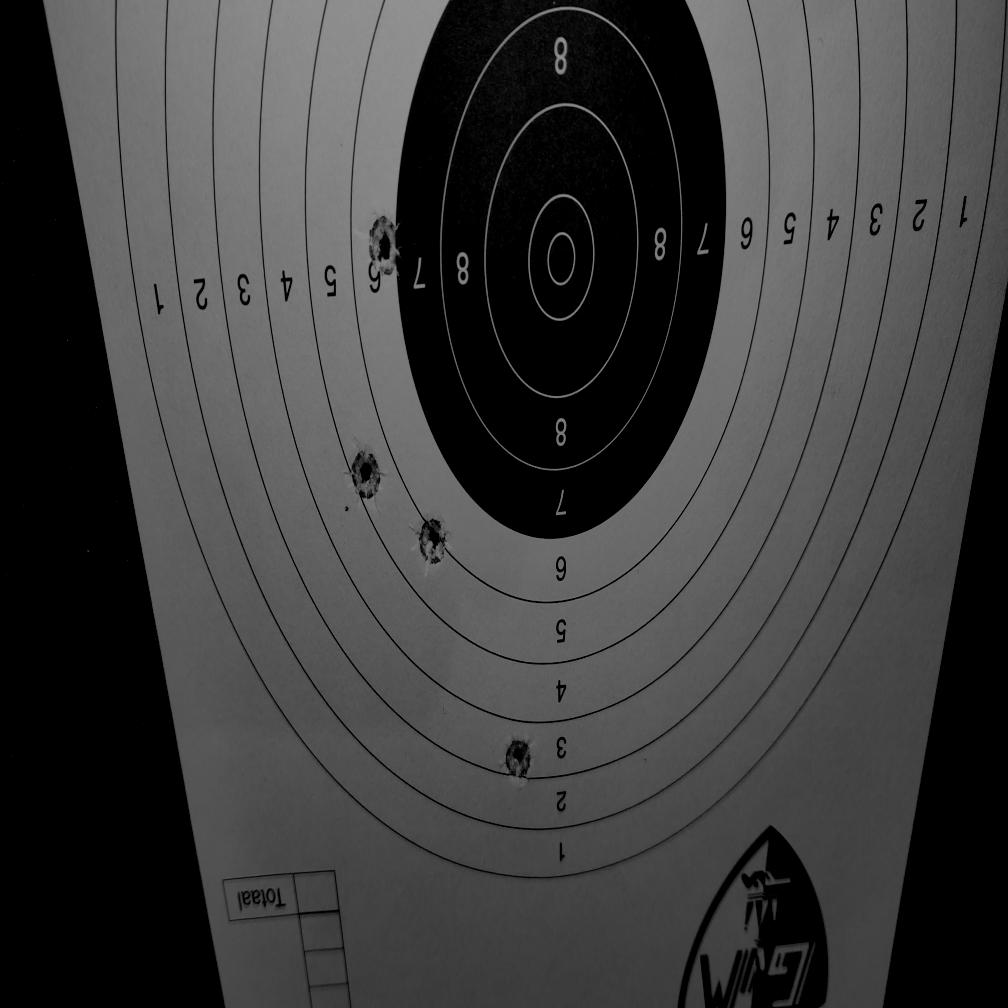3: (499, 732, 534, 789)
5: (343, 440, 386, 516)
6: (410, 516, 451, 578)
7: (367, 208, 405, 288)
Target: (114, 0, 1008, 887)
black_contour: (396, 0, 726, 543)
